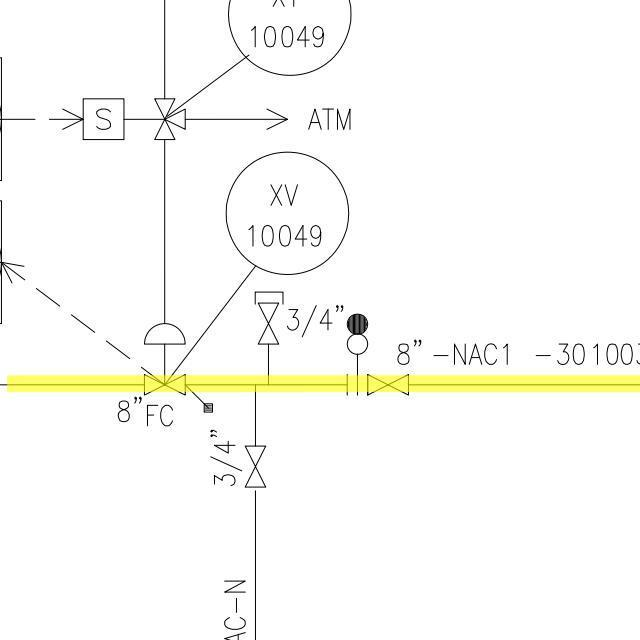3W: (150, 91, 191, 145)
EC: (250, 285, 288, 382)
FC: (136, 316, 190, 398)
GV: (242, 437, 270, 495), (362, 371, 412, 398), (256, 299, 281, 351)
SV: (81, 95, 175, 147)
